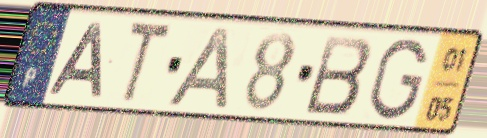8: (240, 27, 300, 116)
A: (162, 24, 233, 113), (44, 20, 106, 100)
B: (301, 32, 376, 117)
G: (366, 36, 430, 123)
T: (122, 17, 175, 108)
